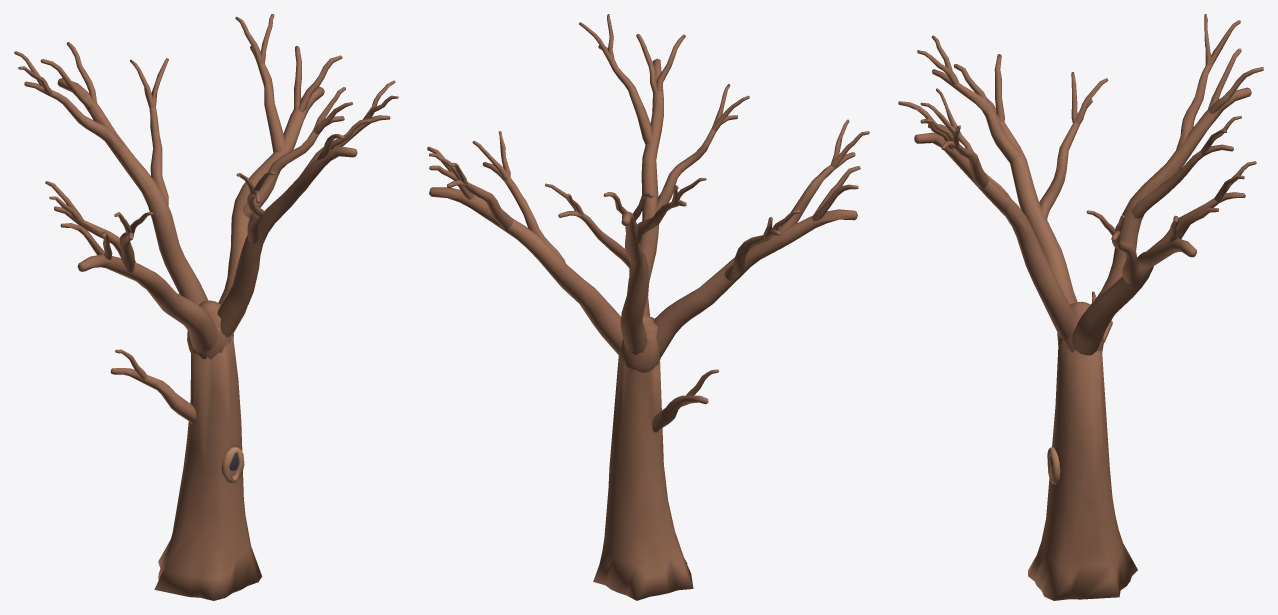
File: dead.glb
The picture shows the model from 3 angles, left to right: view 1: azimuth 30°, elevation 25°; view 2: azimuth 150°, elevation 25°; view 3: azimuth 270°, elevation 25°; orthographic projection. The views are drawn at different scales.
Parts seen in each view (by area): view 1: lod0; view 2: lod0; view 3: lod0.
Part boxes in pixels (x1,y1,x2,y2): lod0: (14, 14, 398, 600); lod0: (427, 14, 869, 600); lod0: (898, 14, 1263, 600).
Size of what is drawn, in the model's own units: 3.41 by 4.51 by 2.89.
Materials: 1 (1 with a texture image).
